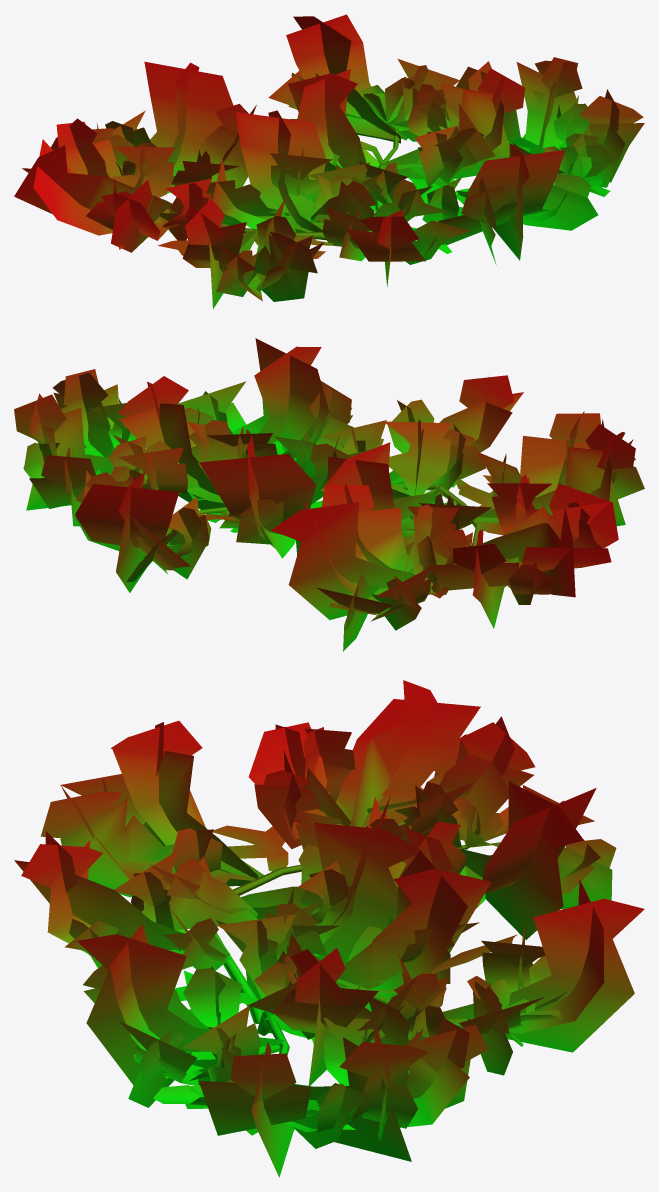
The model's file is Alpine Bearberry_LOD4_Var8_xb0gdazqx.fbx.
3 renders of one model, top to bottom at view 1: azimuth 30°, elevation 25°; view 2: azimuth 150°, elevation 25°; view 3: azimuth 270°, elevation 25°, orthographic. The views are drawn at different scales.
Visible parts, largest first — view 1: _vy34_Var8_LOD4; view 2: _vy34_Var8_LOD4; view 3: _vy34_Var8_LOD4.
Part boxes in pixels (x1=…): _vy34_Var8_LOD4: x1=14, y1=14, x2=644, y2=308; _vy34_Var8_LOD4: x1=14, y1=338, x2=644, y2=651; _vy34_Var8_LOD4: x1=14, y1=680, x2=644, y2=1177.
Size of the model in its own units: 66.83 by 15.01 by 48.55.
